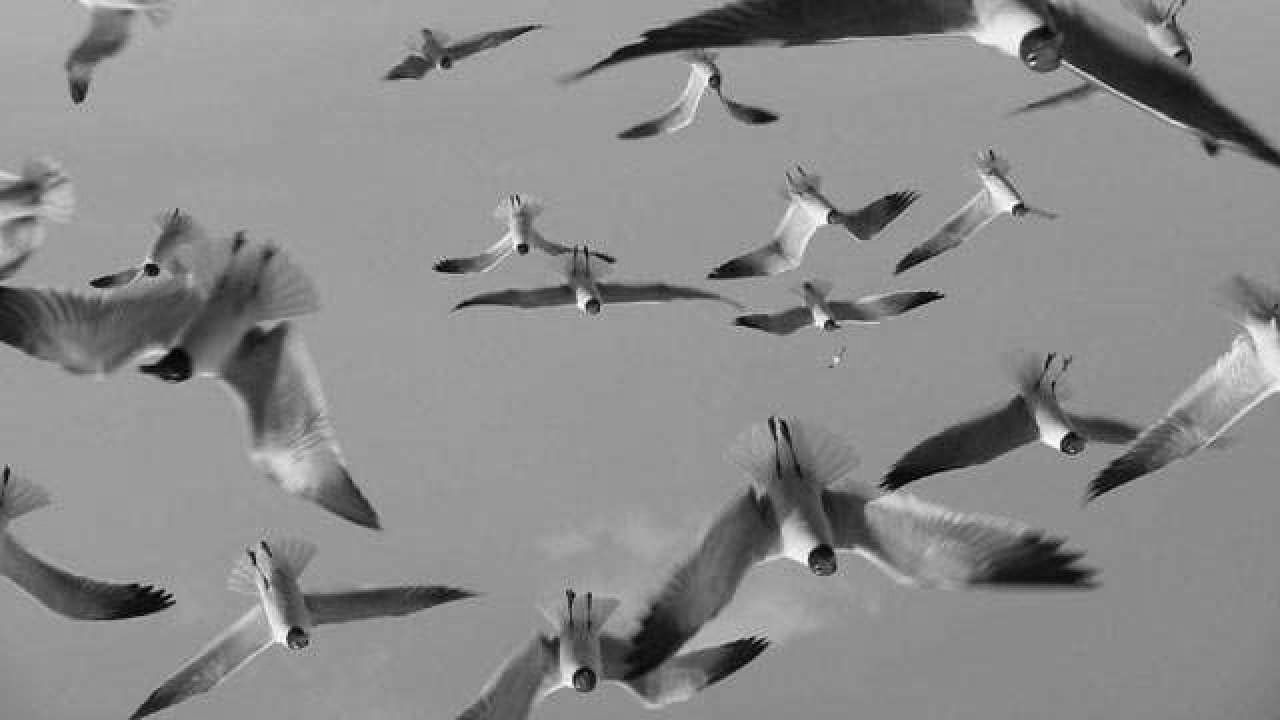Bird: (624, 409, 1105, 681), (551, 3, 1280, 181), (0, 222, 390, 534), (125, 532, 489, 717), (1080, 272, 1280, 521), (450, 574, 772, 713), (872, 342, 1149, 494), (1002, 0, 1222, 161), (0, 453, 180, 625), (702, 156, 921, 283), (446, 238, 749, 325), (888, 143, 1062, 278), (429, 181, 620, 275), (615, 47, 782, 145), (727, 271, 948, 340), (375, 11, 545, 88), (55, 4, 174, 109), (0, 147, 79, 301), (91, 204, 210, 287)
